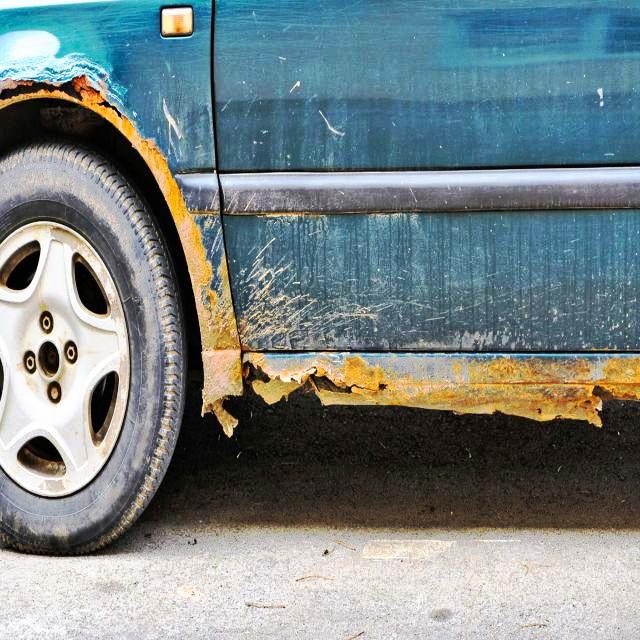Corrosion: (0, 51, 640, 438)
